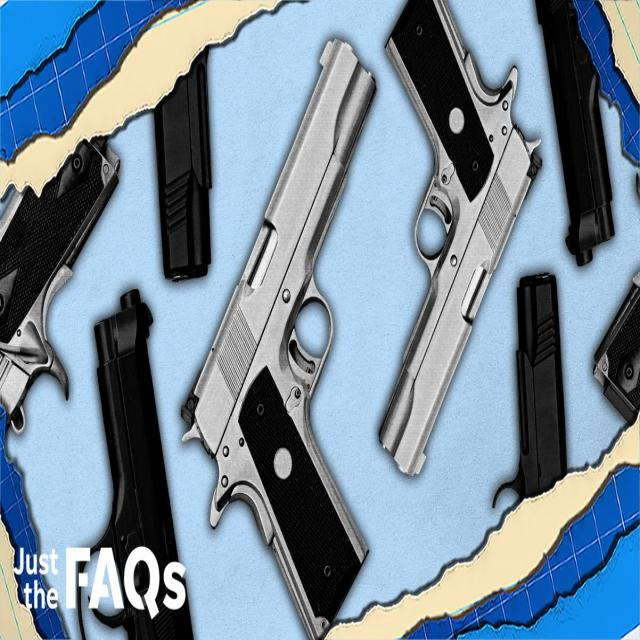weapon: (180, 33, 393, 640), (377, 1, 550, 512)
